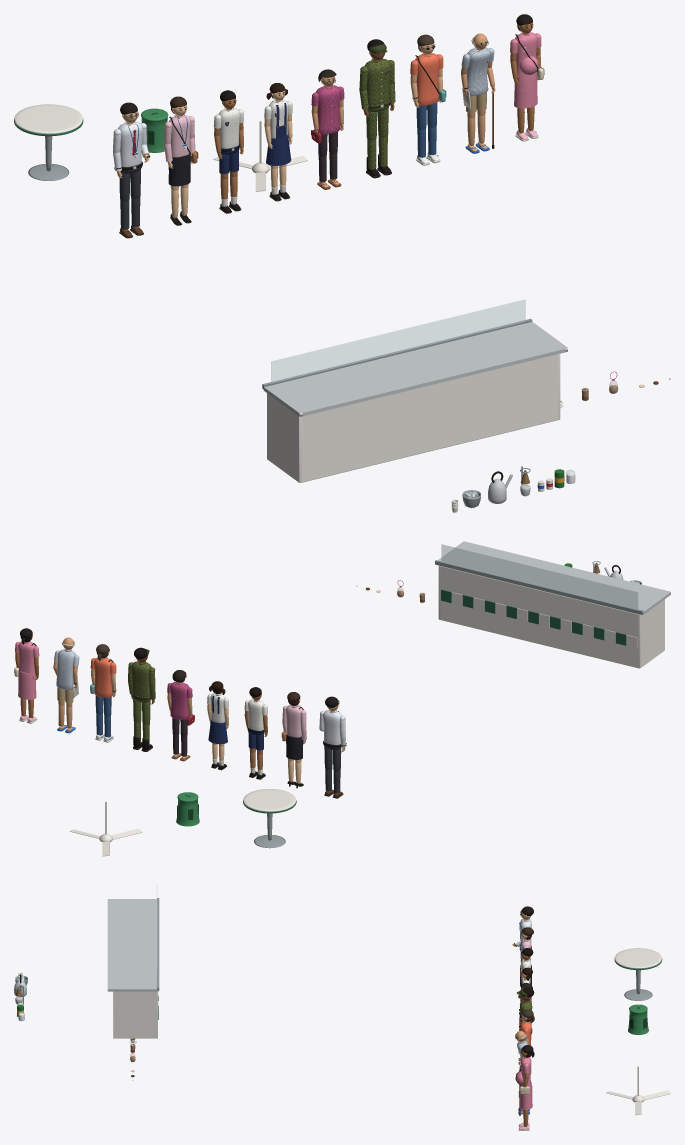
Rendered from kopi-assets.glb.
3 views of the same model, one above another, from view 1: azimuth 30°, elevation 25°; view 2: azimuth 150°, elevation 25°; view 3: azimuth 270°, elevation 25° (orthographic). The views are drawn at different scales.
Visible parts, largest first — view 1: CounterBody, CounterTop, CounterSneeze, Char_ns_Stand_Mesh_k, Char_worker_a_Stand_Mesh_k, Char_parent_Stand_Mesh_k, Char_expecting_Stand_Mesh_k, Char_worker_b_Stand_Mesh_k, Char_uncle_Stand_Mesh_k, Char_aunty_Stand_Mesh_k, Char_student_a_Stand_Mesh_k, Char_student_b_Stand_Mesh_k (+3 smaller); view 2: CounterBody, CounterTop, CounterSneeze, Char_ns_Stand_Mesh_k, Char_worker_a_Stand_Mesh_k, Char_parent_Stand_Mesh_k, Char_expecting_Stand_Mesh_k, Char_uncle_Stand_Mesh_k, Char_worker_b_Stand_Mesh_k, Char_aunty_Stand_Mesh_k, Char_student_a_Stand_Mesh_k, Char_student_b_Stand_Mesh_k (+3 smaller); view 3: CounterTop, CounterBody, Char_expecting_Stand_Mesh_k, TableTop_001_k, StoolBody_k.
Boxes of the visible parts, x1,y1,x2,y2 form: CounterBody: (267, 353, 560, 482); CounterTop: (263, 321, 567, 416); CounterSneeze: (271, 299, 525, 383); Char_ns_Stand_Mesh_k: (359, 39, 395, 178); Char_worker_a_Stand_Mesh_k: (113, 102, 150, 238); Char_parent_Stand_Mesh_k: (410, 34, 446, 165); Char_expecting_Stand_Mesh_k: (510, 14, 544, 141); Char_worker_b_Stand_Mesh_k: (163, 96, 198, 225); Char_uncle_Stand_Mesh_k: (461, 33, 495, 153); Char_aunty_Stand_Mesh_k: (311, 69, 344, 189); Char_student_a_Stand_Mesh_k: (213, 90, 243, 213); Char_student_b_Stand_Mesh_k: (264, 83, 292, 201); CounterBody: (438, 565, 664, 668); CounterTop: (437, 541, 670, 614); CounterSneeze: (441, 544, 638, 609); Char_ns_Stand_Mesh_k: (128, 647, 155, 751); Char_worker_a_Stand_Mesh_k: (319, 696, 346, 798); Char_parent_Stand_Mesh_k: (90, 644, 116, 742); Char_expecting_Stand_Mesh_k: (14, 628, 39, 723); Char_uncle_Stand_Mesh_k: (53, 637, 79, 733); Char_worker_b_Stand_Mesh_k: (281, 692, 306, 788); Char_aunty_Stand_Mesh_k: (167, 670, 194, 761); Char_student_a_Stand_Mesh_k: (244, 687, 267, 779); Char_student_b_Stand_Mesh_k: (207, 681, 228, 770); CounterTop: (107, 899, 157, 991); CounterBody: (113, 991, 157, 1038); Char_expecting_Stand_Mesh_k: (515, 1045, 534, 1130); TableTop_001_k: (615, 948, 661, 968); StoolBody_k: (628, 1004, 648, 1034).
Size of the model in its own units: 7.72 by 2.47 by 11.7.
120 materials, 8 textured.
